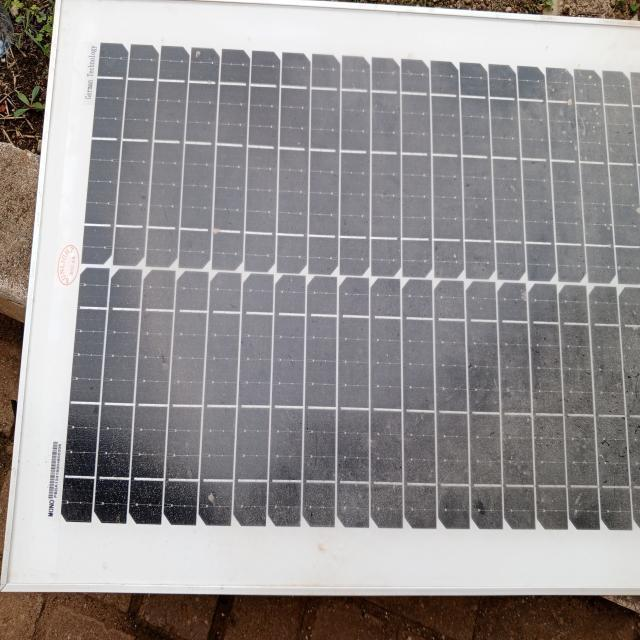Surface Contaminant: (74, 20, 623, 538)
